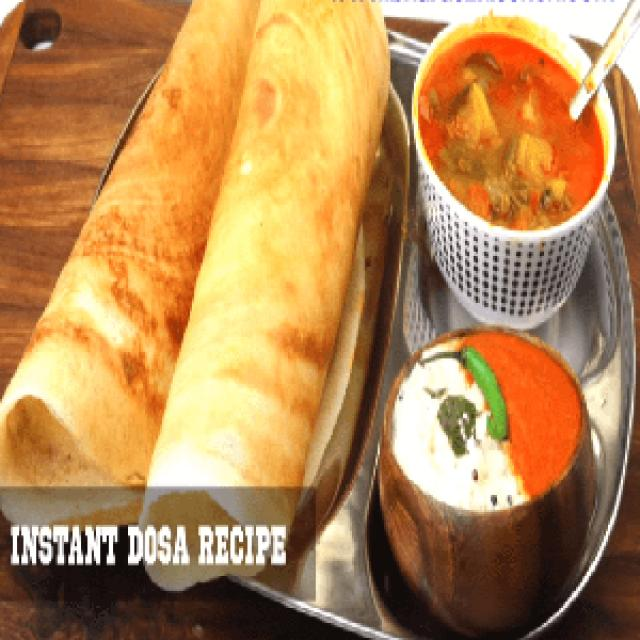dosa: (133, 0, 398, 605), (0, 0, 254, 540)
